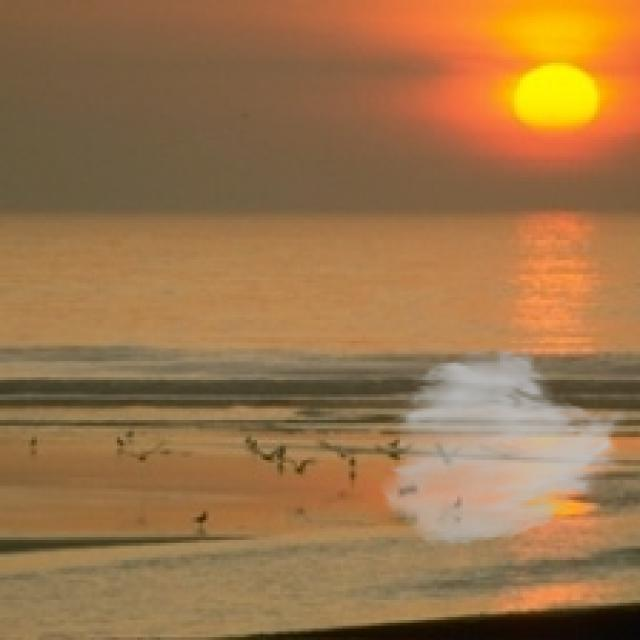Smoke: (377, 346, 632, 548)
